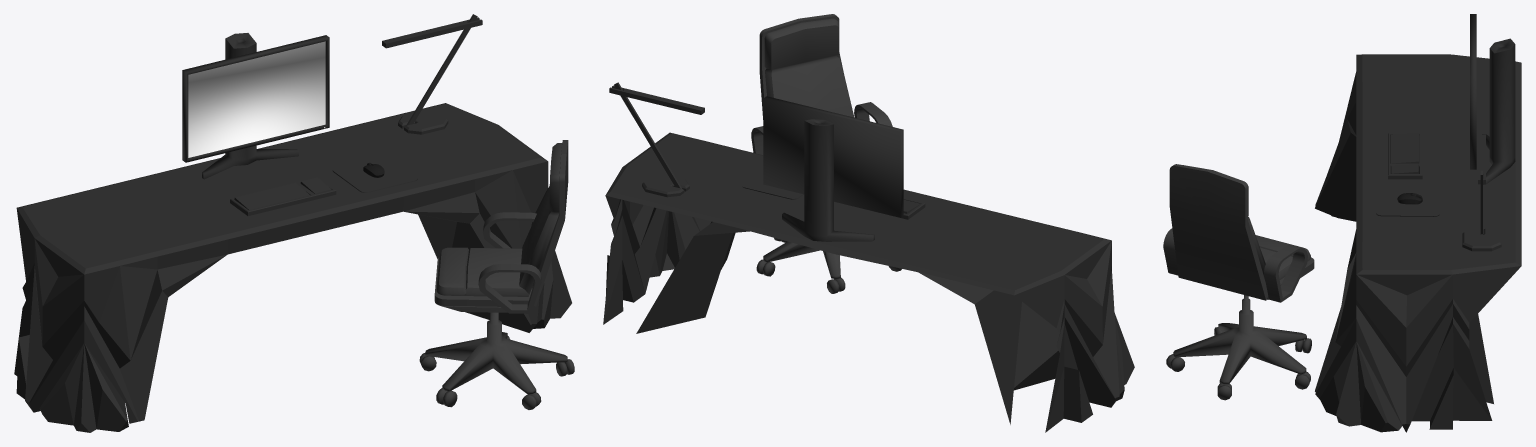
Rendered from desk-transformed.glb.
3 renders of one model, left to right at view 1: azimuth 30°, elevation 25°; view 2: azimuth 150°, elevation 25°; view 3: azimuth 270°, elevation 25°, orthographic. The views are drawn at different scales.
Visible parts, largest first — view 1: Desk.002, Monitor.001, Chair.001, Moouse_Pad.001; view 2: Desk.002, Monitor.001, Chair.001, Moouse_Pad.001; view 3: Desk.002, Chair.001, Monitor.001, Moouse_Pad.001.
Boxes of the visible parts, x1=… form: Desk.002: x1=14, y1=103, x2=571, y2=432; Monitor.001: x1=182, y1=14, x2=482, y2=215; Chair.001: x1=419, y1=140, x2=574, y2=409; Moouse_Pad.001: x1=332, y1=155, x2=417, y2=192; Desk.002: x1=603, y1=132, x2=1134, y2=432; Monitor.001: x1=609, y1=82, x2=925, y2=241; Chair.001: x1=751, y1=14, x2=901, y2=293; Moouse_Pad.001: x1=741, y1=170, x2=803, y2=199; Desk.002: x1=1315, y1=54, x2=1521, y2=432; Chair.001: x1=1163, y1=164, x2=1314, y2=400; Monitor.001: x1=1388, y1=14, x2=1515, y2=251; Moouse_Pad.001: x1=1376, y1=188, x2=1439, y2=216.
Bounding box in the file's own units: 3.64 × 1.82 × 2.21.
6 materials, 6 textured.
